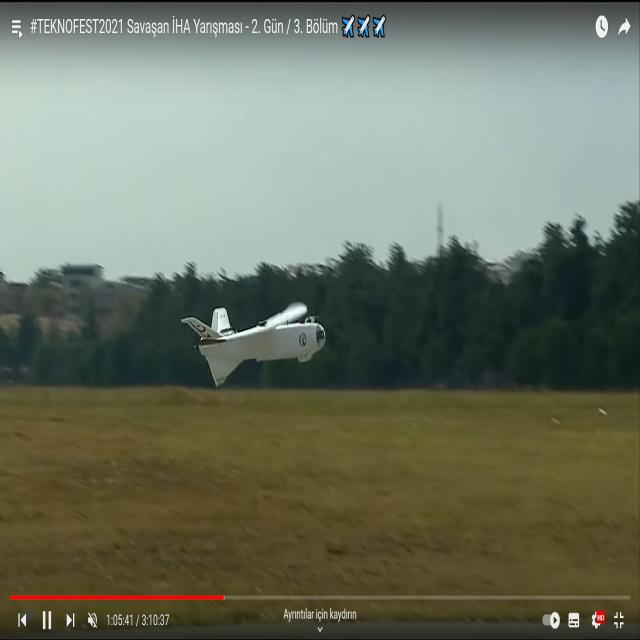iha: (182, 332, 326, 358)
